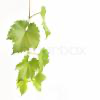grape leaf: (3, 20, 42, 56), (14, 55, 40, 83), (40, 4, 54, 40), (36, 48, 51, 73), (32, 72, 47, 93), (13, 79, 29, 98)
